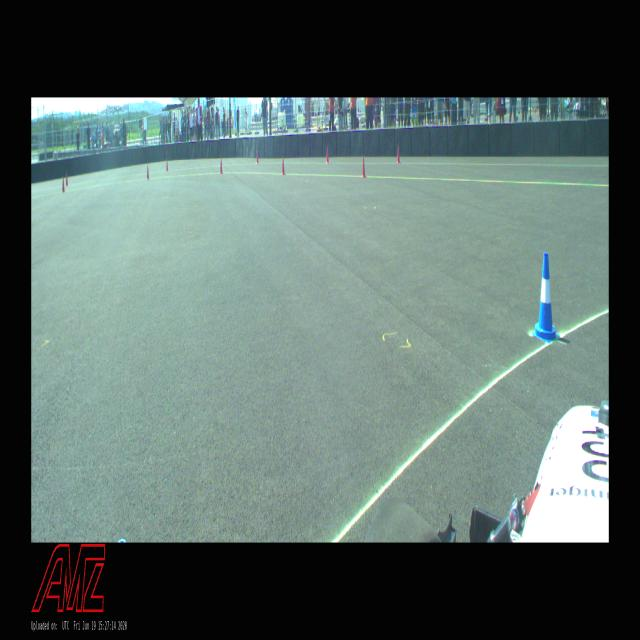blue_cone: (532, 252, 560, 343)
unknown_cone: (396, 144, 401, 164), (362, 156, 366, 178), (282, 156, 286, 174), (326, 147, 330, 163), (220, 158, 223, 174), (256, 150, 258, 164), (147, 165, 149, 179), (62, 178, 64, 192), (66, 172, 68, 186), (166, 158, 168, 171)
